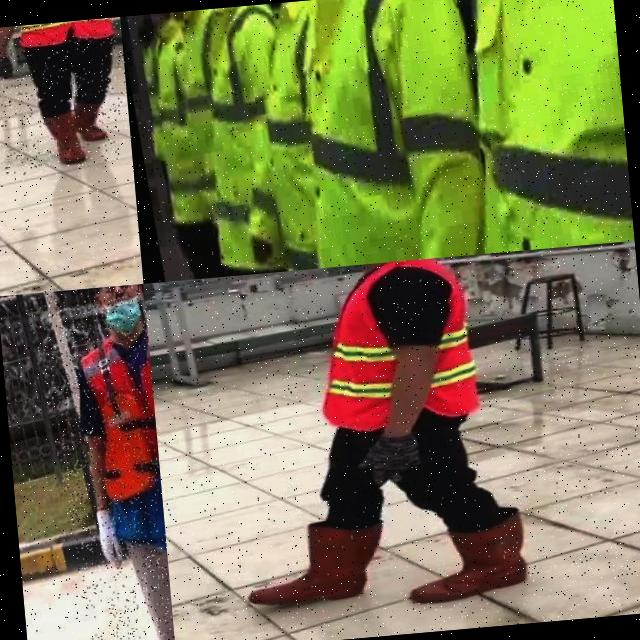boots: (234, 512, 392, 616), (399, 511, 532, 609), (42, 107, 86, 166), (75, 96, 108, 146)
vest: (256, 0, 508, 271), (418, 0, 634, 257), (170, 1, 320, 279), (236, 0, 374, 273), (294, 256, 480, 438), (154, 7, 256, 238), (74, 325, 166, 556), (134, 12, 218, 230), (12, 16, 117, 54)
